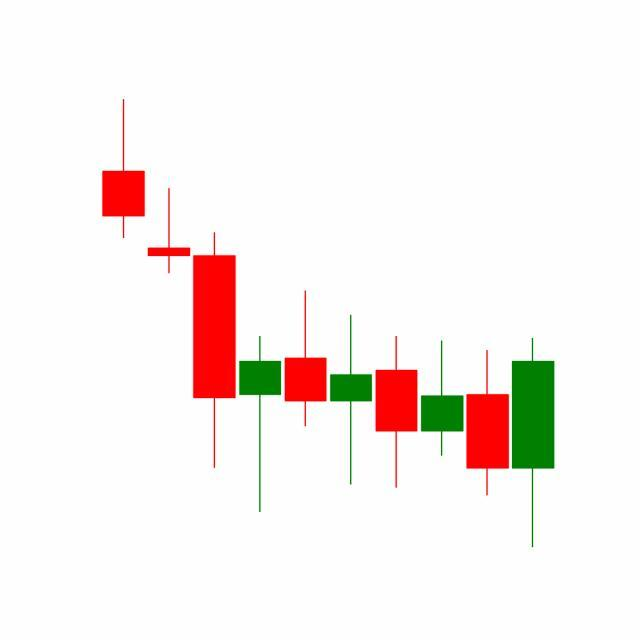Hikkake Pattern: (283, 288, 512, 498)
